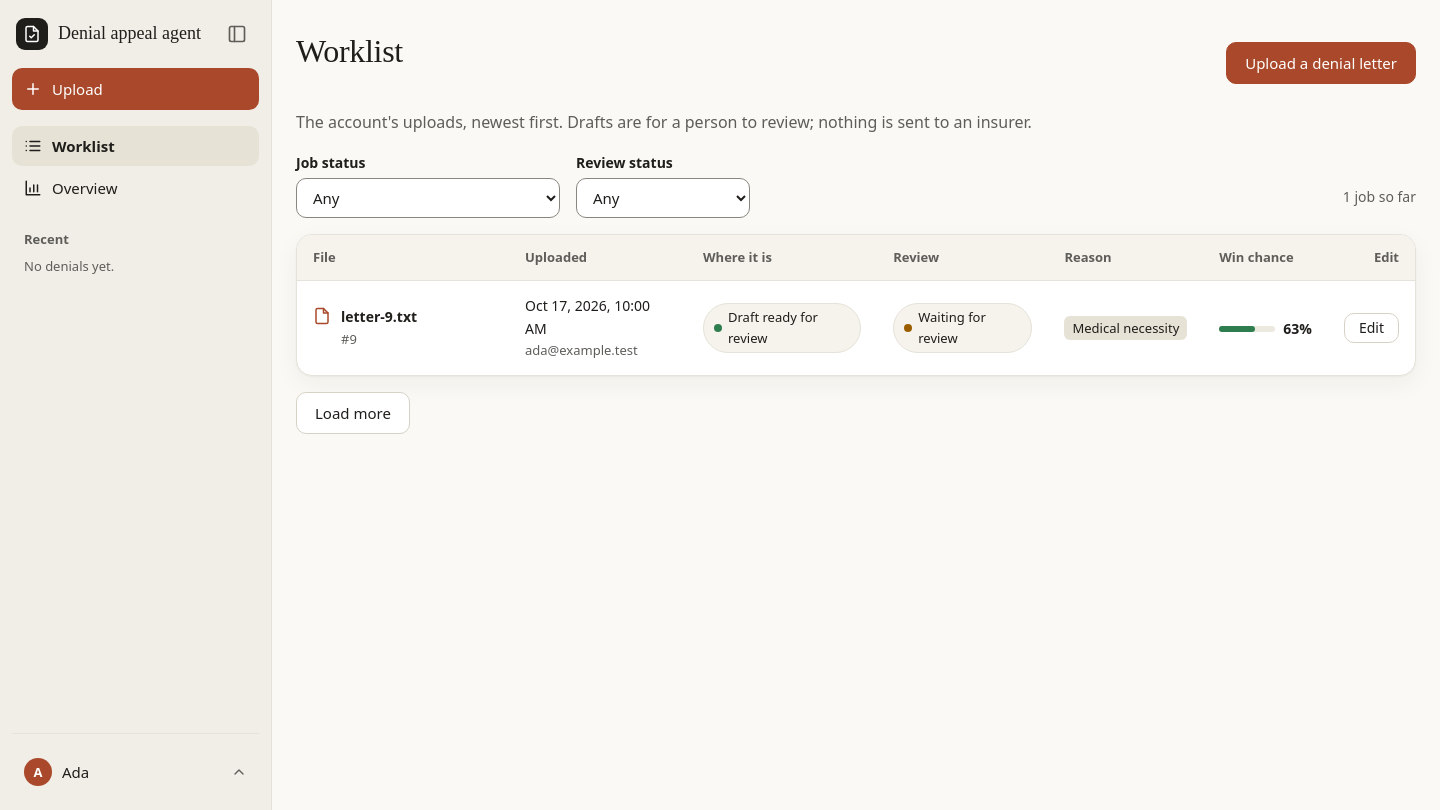
Scenario: WorklistScreen › counts the jobs shown, says when more are to come, and when they are filtered
Expected: the text "1 job so far" is shown, 1343,186 -> 1416,208
Click the button "Load more" at (353, 413), box 296,392 -> 410,434
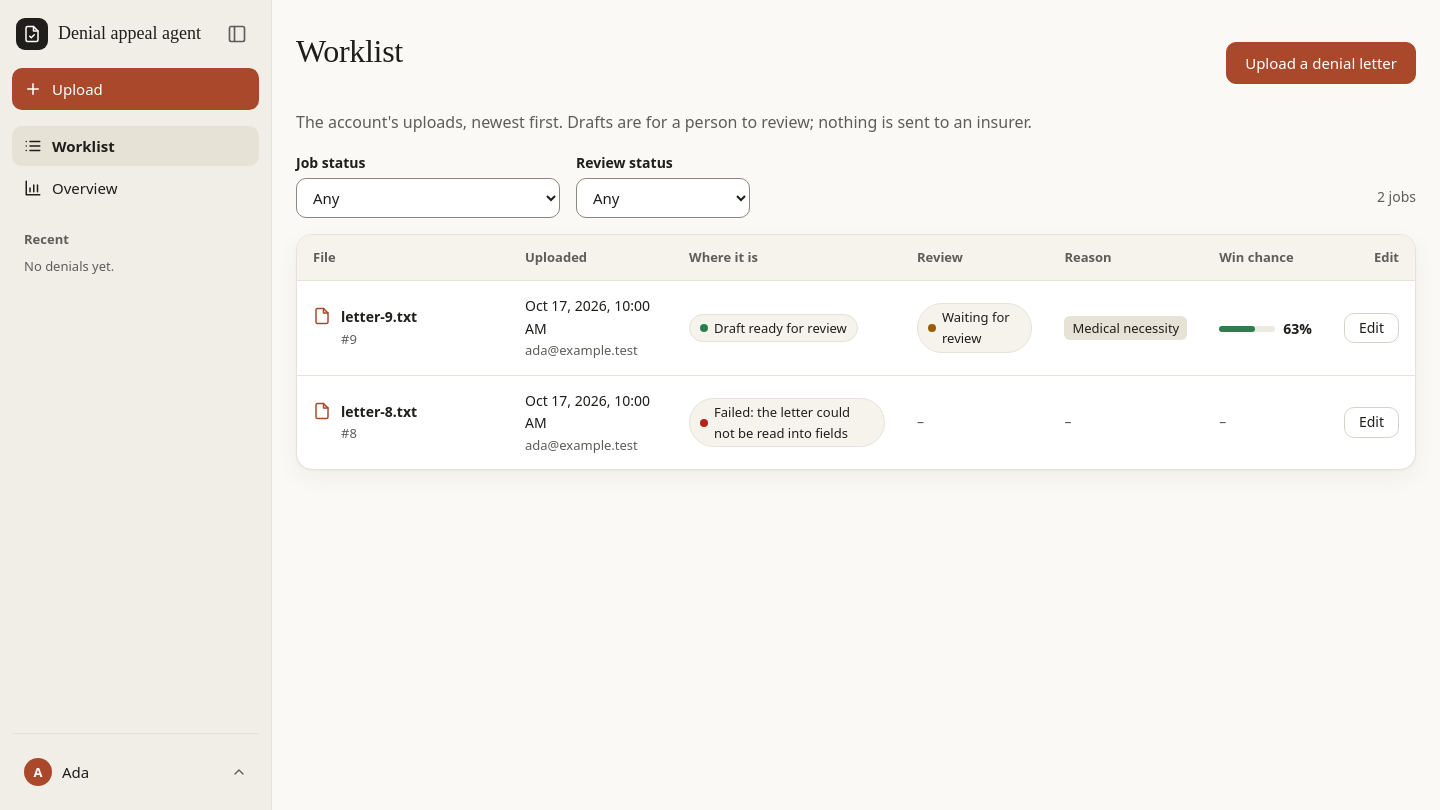
Now the text "2 jobs" is shown, box 1377,186 -> 1416,208
Select "Failed" in the dropdown labelled "Job status" at (428, 198), box 296,178 -> 560,218
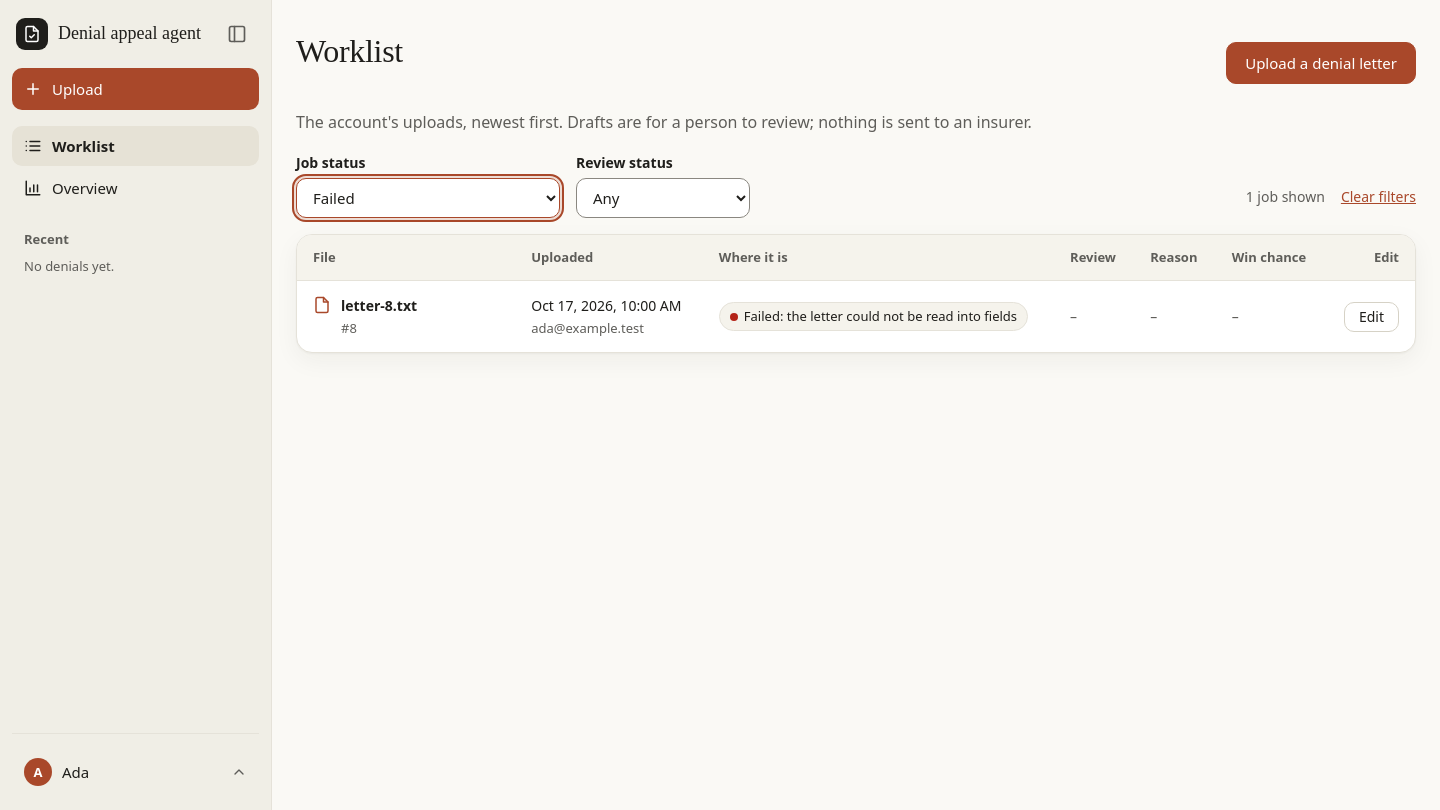
Now the text "1 job shown" is shown, box 1246,186 -> 1325,208
